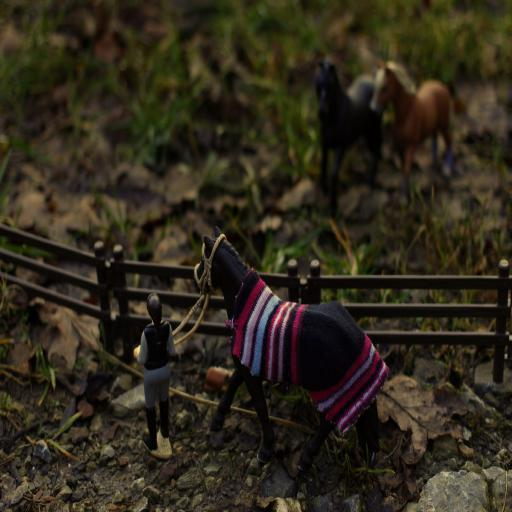horse: (195, 226, 381, 478), (370, 58, 452, 202), (314, 63, 384, 200)
